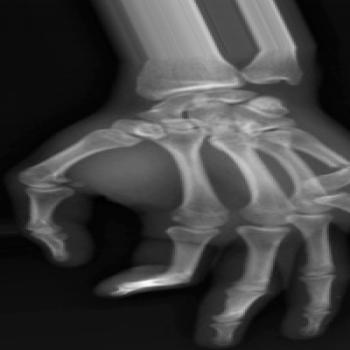Fracture: (325, 155, 350, 179)
